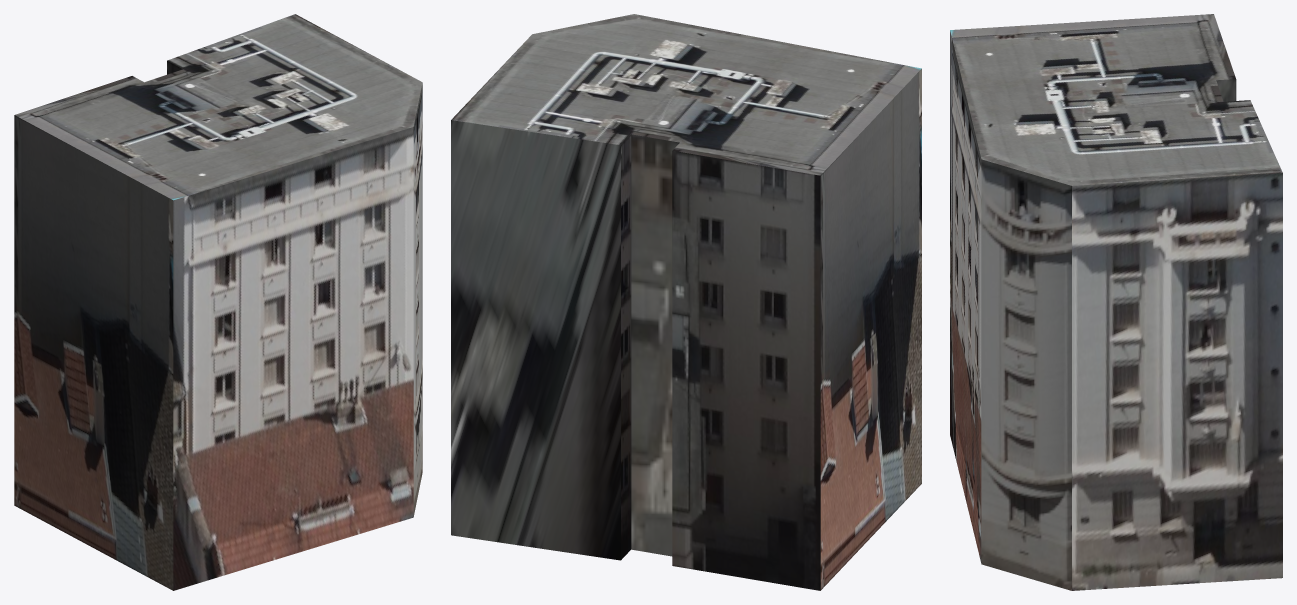
3 renders of one model, left to right at view 1: azimuth 30°, elevation 25°; view 2: azimuth 150°, elevation 25°; view 3: azimuth 270°, elevation 25°, orthographic. The views are drawn at different scales.
Parts seen in each view (by area): view 1: Z_UP; view 2: Z_UP; view 3: Z_UP.
Boxes of the visible parts, box(x1,y1,x2,y2) form: Z_UP: box(14, 14, 422, 590); Z_UP: box(451, 14, 921, 590); Z_UP: box(950, 14, 1282, 590).
Size of the model in its own units: 19.41 by 21.33 by 15.88.
Materials: 2 (1 with a texture image).
